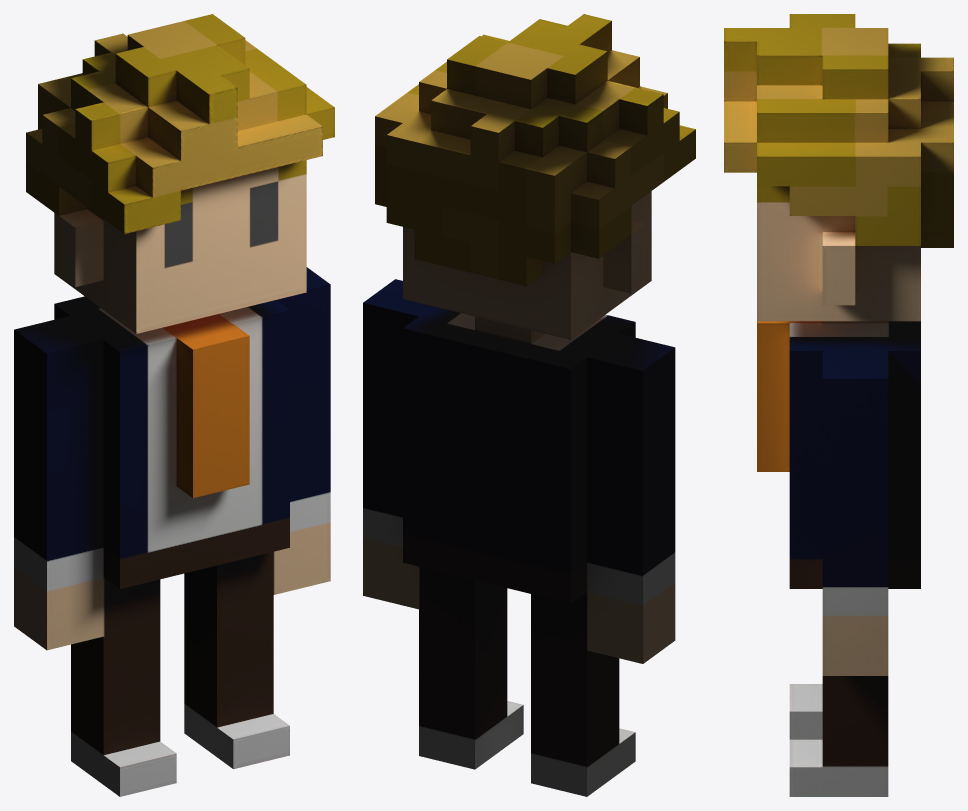
The model's file is levi.glb.
3 renders of one model, left to right at view 1: azimuth 30°, elevation 25°; view 2: azimuth 150°, elevation 25°; view 3: azimuth 270°, elevation 25°, orthographic.
Parts seen in each view (by area): view 1: character; view 2: character; view 3: character.
Part boxes in pixels (x1=…): character: x1=14, y1=14, x2=334, y2=796; character: x1=363, y1=14, x2=695, y2=796; character: x1=724, y1=14, x2=953, y2=796.
Size of the model in its own units: 1 by 2.4 by 0.7.
1 material, 1 textured.
